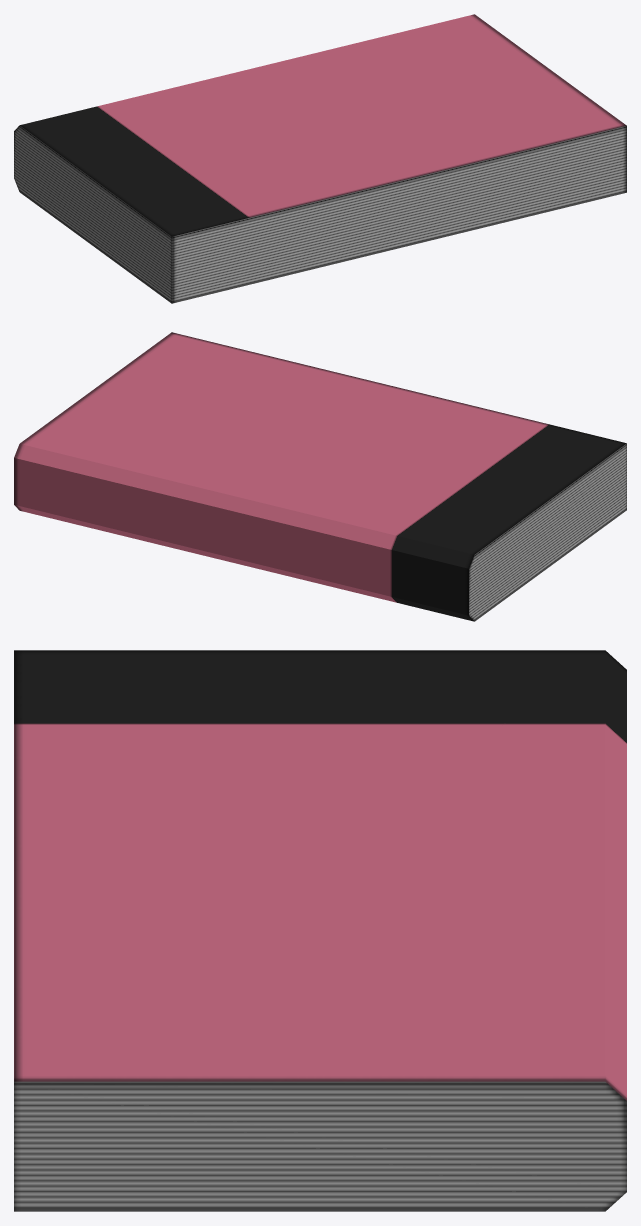
Rendered from book5.fbx.
3 views of the same model, one above another, from view 1: azimuth 30°, elevation 25°; view 2: azimuth 150°, elevation 25°; view 3: azimuth 270°, elevation 25° (orthographic). The views are drawn at different scales.
Visible parts, largest first — view 1: polySurface1129; view 2: polySurface1129; view 3: polySurface1129.
Part boxes in pixels (x1,y1,x2,y2): polySurface1129: [14, 14, 626, 303]; polySurface1129: [14, 332, 626, 621]; polySurface1129: [14, 650, 626, 1211].
Size of the model in its own units: 0.4212 by 0.0592 by 0.253.
